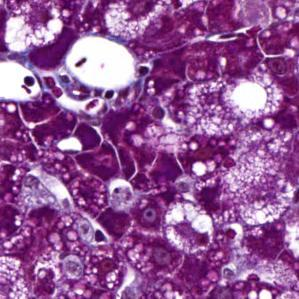ballooning: (5, 5, 64, 54), (164, 199, 215, 255)
